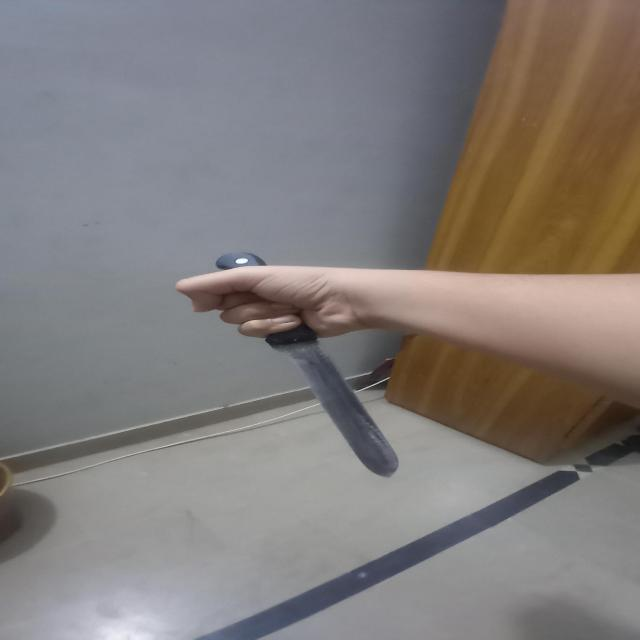faca: (218, 250, 402, 474)
